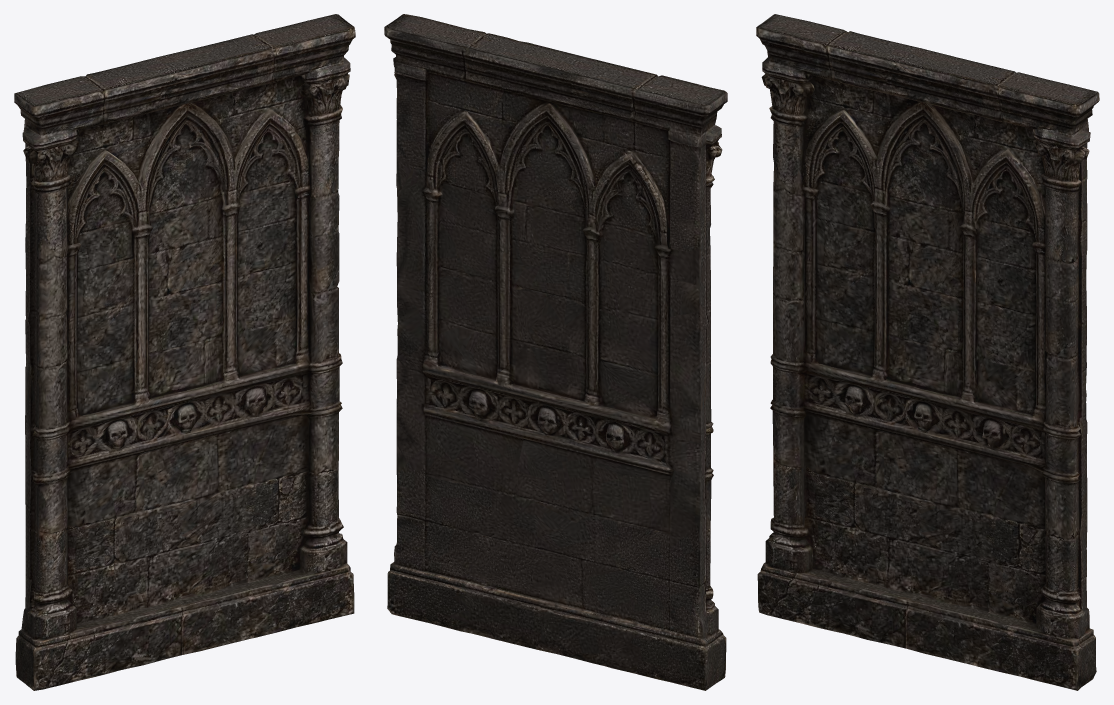
File: wallbay.glb
3 views of the same model, side by side, from view 1: azimuth 30°, elevation 25°; view 2: azimuth 150°, elevation 25°; view 3: azimuth 330°, elevation 25° (orthographic).
Parts seen in each view (by area): view 1: wallbay; view 2: wallbay; view 3: wallbay.
Part boxes in pixels (<box>): wallbay: <box>14,14,355,690</box>; wallbay: <box>384,14,727,690</box>; wallbay: <box>756,14,1099,690</box>.
Size of the model in its own units: 5 by 8.6 by 0.55.
1 material, 1 textured.
